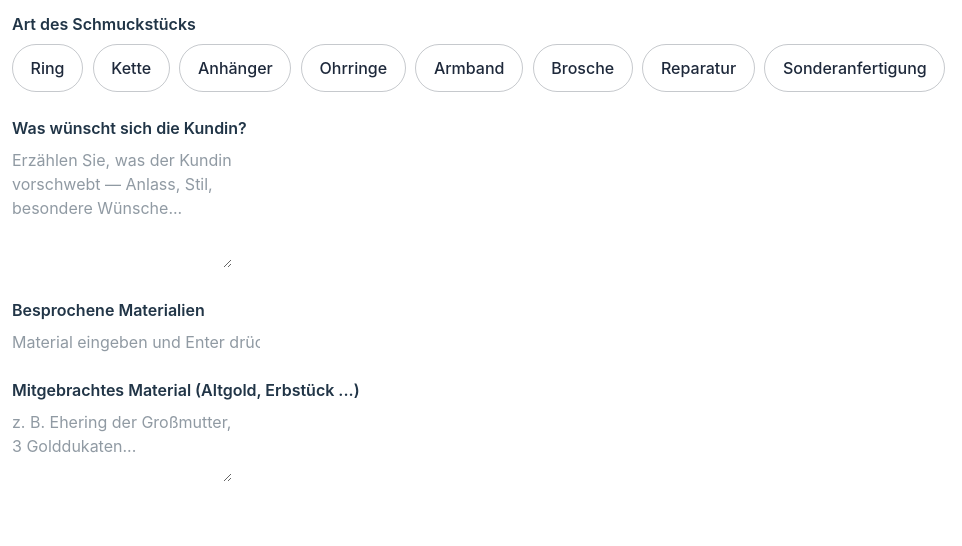
Test: WishStep › adding a material chip via Enter reports materials_discussed
Type "Rotgold 585" into the field labelled "Besprochene Materialien".
click(136, 342); type("Rotgold 585")  # box x1=12 y1=330 x2=260 y2=354
Then press Enter
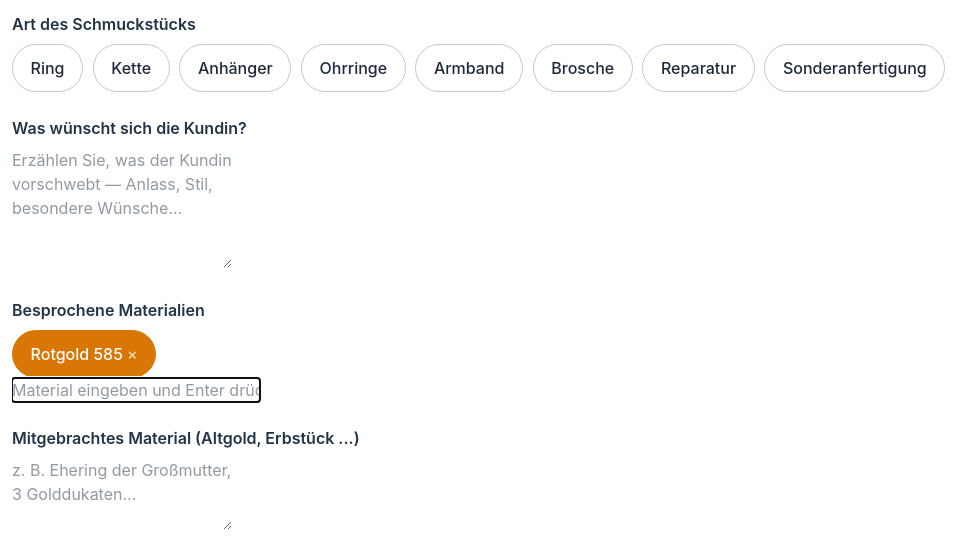
Check: the field labelled "Besprochene Materialien" is empty, box x1=12 y1=378 x2=260 y2=402
Check: the button with aria-label "Rotgold 585 entfernen" is shown, box x1=12 y1=330 x2=156 y2=378
